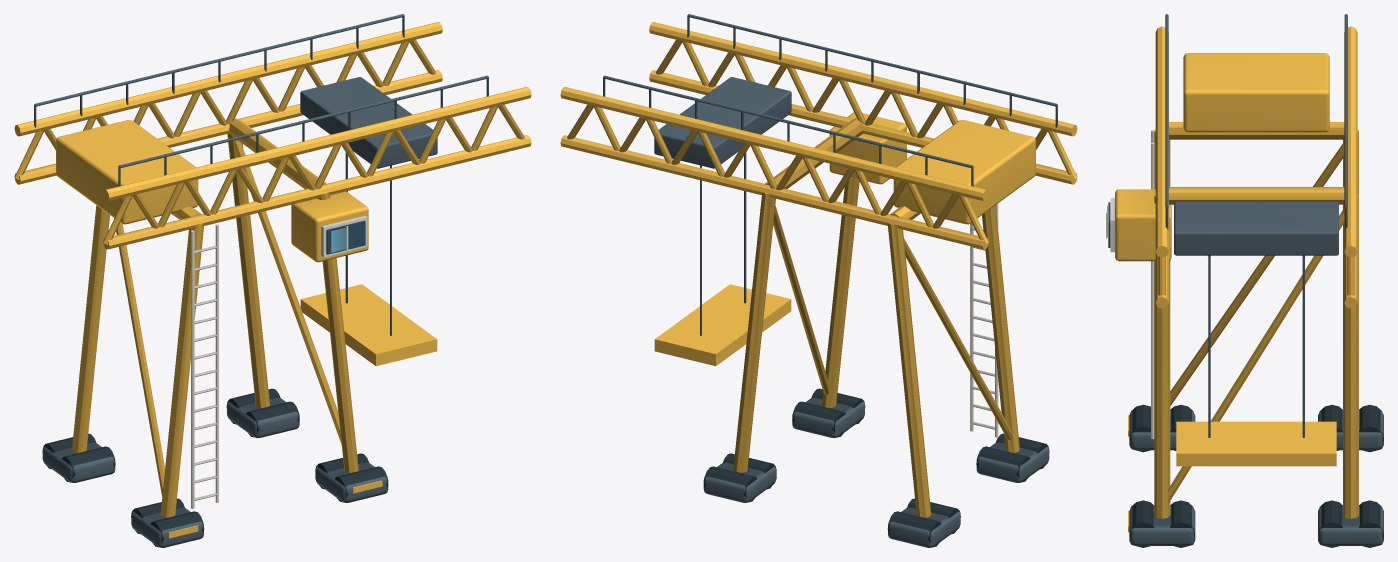
The model's file is harbor-crane.glb.
The picture shows the model from 3 angles, left to right: view 1: azimuth 30°, elevation 25°; view 2: azimuth 150°, elevation 25°; view 3: azimuth 270°, elevation 25°; orthographic projection. The views are drawn at different scales.
Parts seen in each view (by area): view 1: gantry column, gantry feet, gantry wheels, white frame, blue glazing; view 2: gantry column, gantry feet, gantry wheels, white frame; view 3: gantry column, gantry feet, gantry wheels, white frame.
Boxes of the visible parts, box(x1,y1,x2,y2) form: gantry column: box(14, 22, 531, 538); gantry feet: box(34, 14, 488, 547); gantry wheels: box(42, 388, 388, 547); white frame: box(191, 215, 367, 508); blue glazing: box(326, 220, 365, 254); gantry column: box(560, 22, 1077, 517); gantry feet: box(603, 14, 1057, 547); gantry wheels: box(703, 388, 1049, 547); white frame: box(970, 203, 998, 437); gantry column: box(1115, 26, 1358, 532); gantry feet: box(1129, 14, 1383, 545); gantry wheels: box(1129, 404, 1383, 547); white frame: box(1106, 130, 1154, 438).
Bounding box in the file's own units: 5.53 × 4.72 × 2.95.
